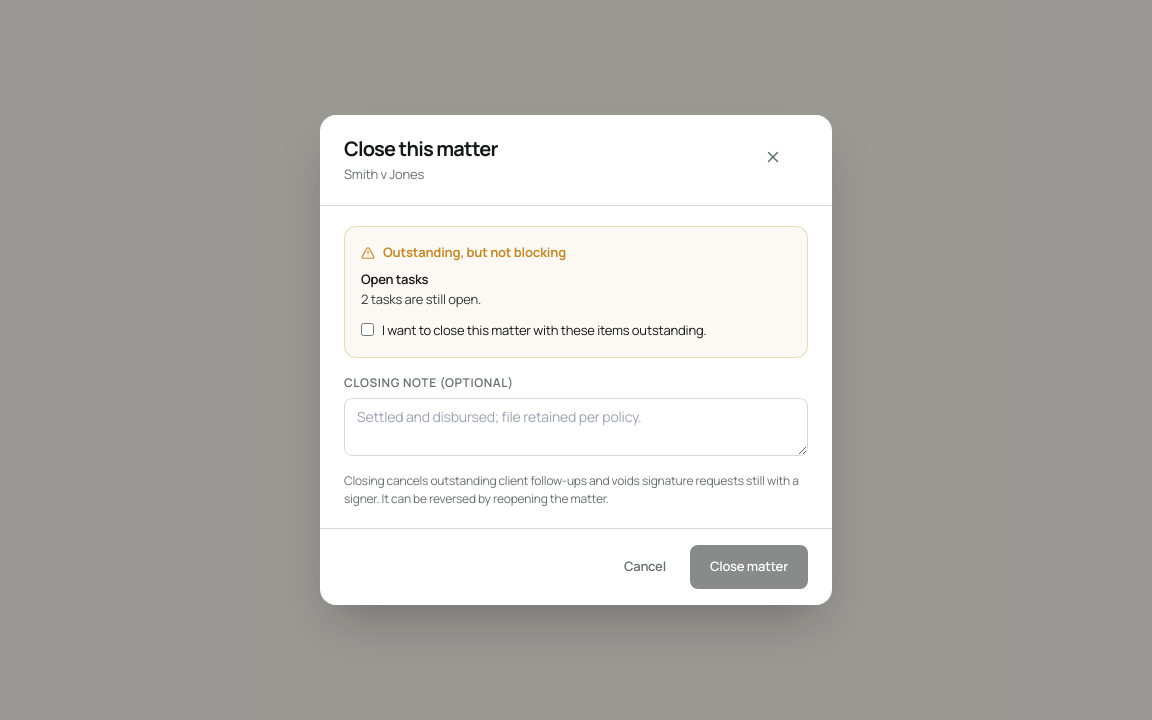
requires the firm to acknowledge non-blocking warnings
expect the text "Outstanding, but not blocking" is shown: met, box [361,243,566,261]
expect the button "Close matter" is disabled: met, box [690,545,808,589]
Click the checkbox labelled "I want to close this matter with these items outstanding.": (368, 330) [361,323,374,336]
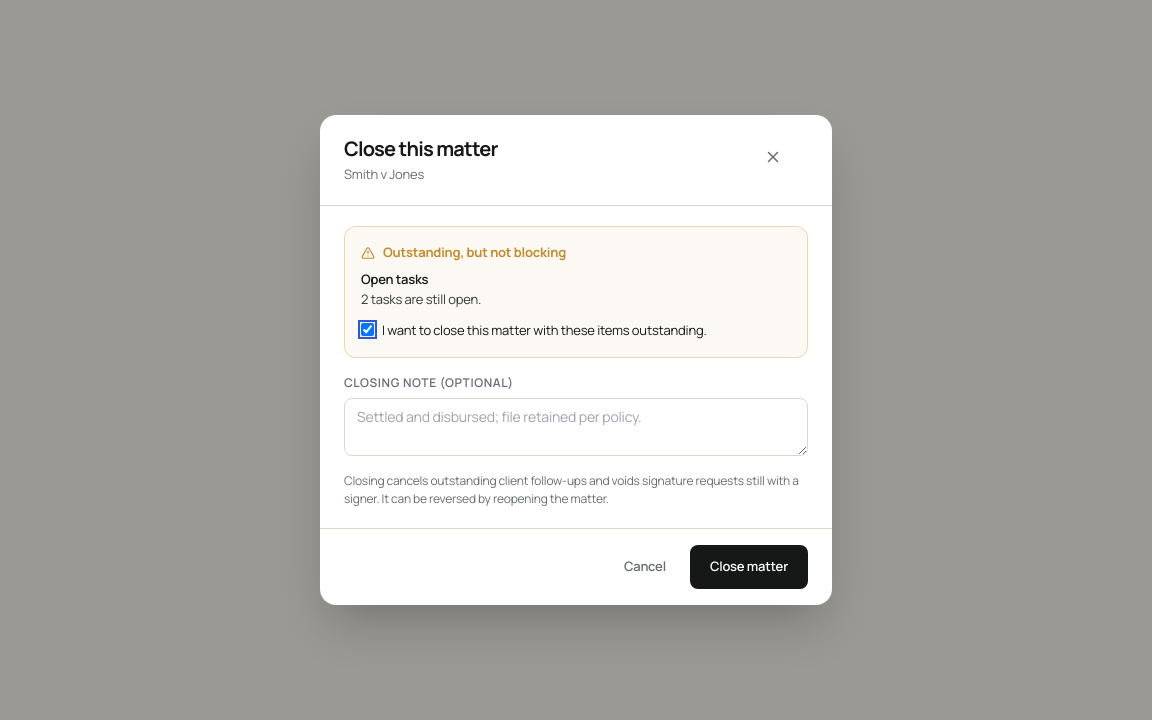
expect the button "Close matter" is enabled: met, box [690,545,808,589]
